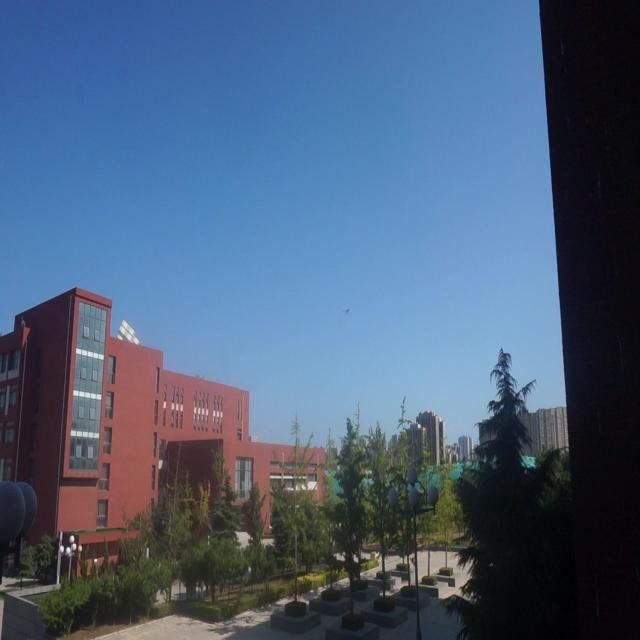drone: (342, 304, 354, 318)
